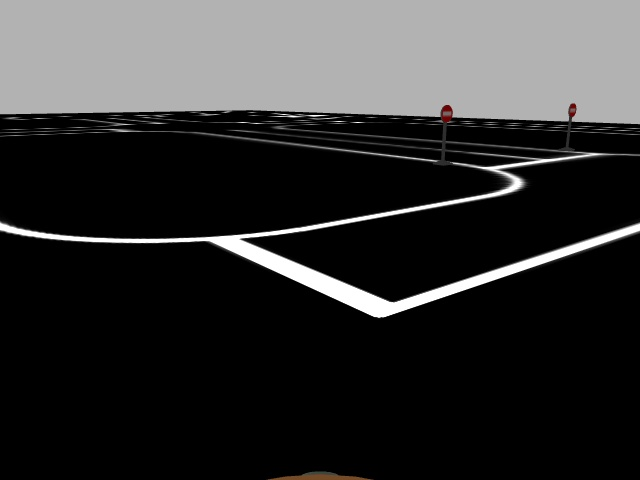prohibited: (439, 102, 454, 125)
